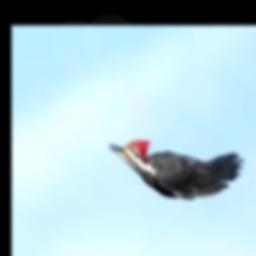Woodpecker: (110, 140, 247, 198)
